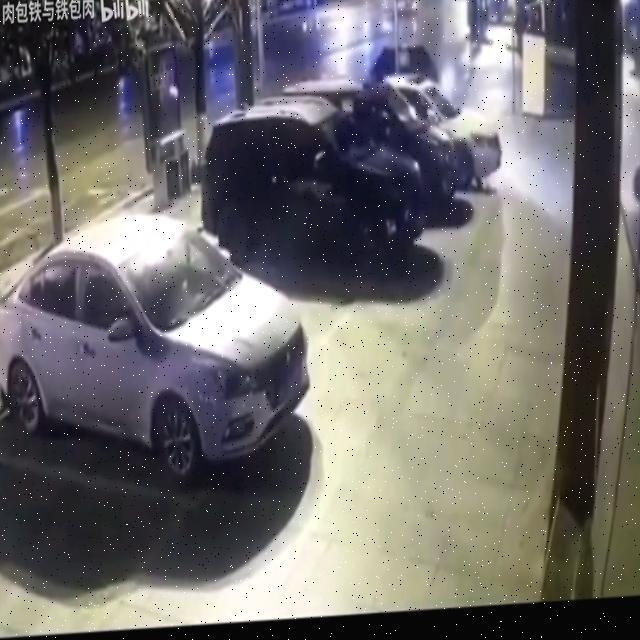normal: (0, 185, 341, 513), (180, 29, 561, 302)
